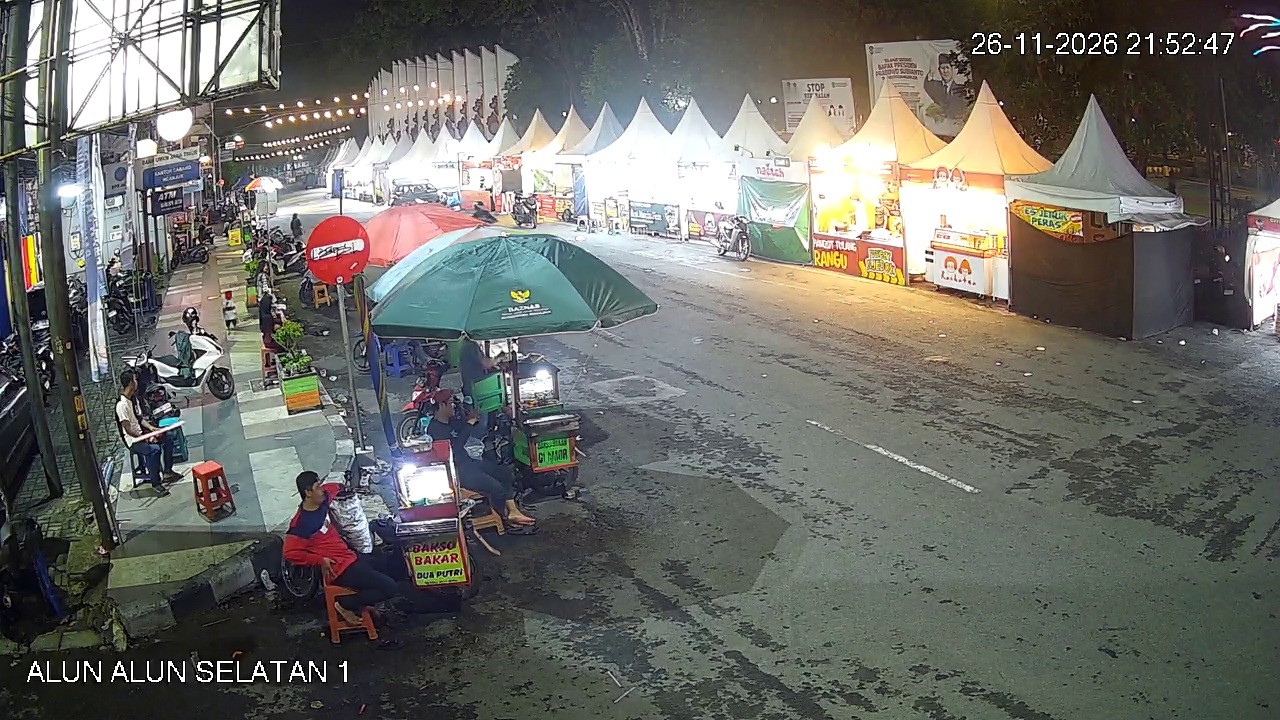Gerobak: (385, 431, 480, 607), (488, 350, 586, 505)
